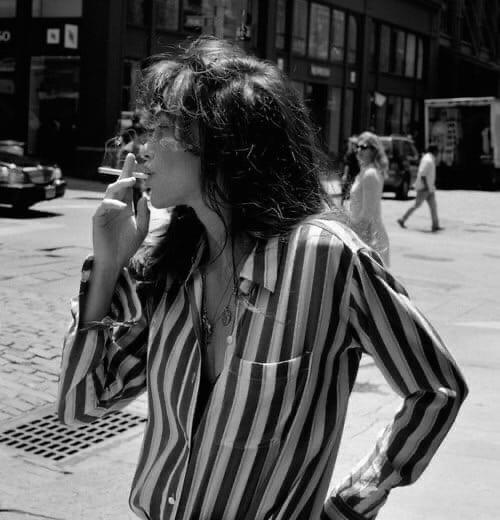cigarette: (97, 167, 149, 179)
